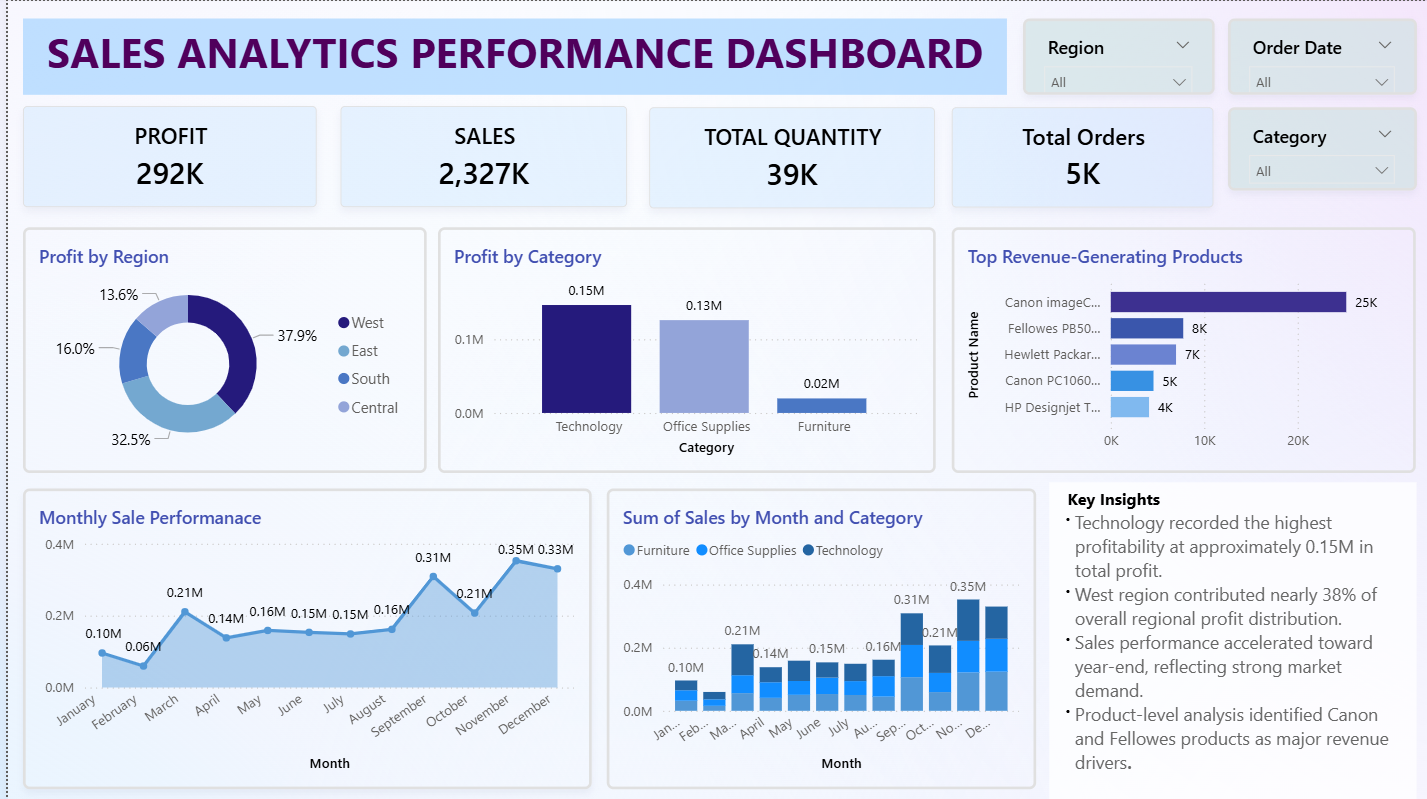

Layout of this report page (visuals, bound fields, positions):
{"tool":"powerbi","page":{"name":"Dashboard","canvas":[1280,720],"ordinal":0},"visuals":[{"type":"textbox","box":[13.8,16.2,887.5,68.8],"z":0},{"type":"card","title":"PROFIT","fields":{"Values":["Sum(Orders.Profit)"]},"box":[13.8,95,265,91.2],"z":1000},{"type":"card","title":"SALES","fields":{"Values":["Sum(Orders.Sales)"]},"box":[300,95,258.8,91.2],"z":2000},{"type":"card","title":"TOTAL QUANTITY","fields":{"Values":["Sum(Orders.Quantity)"]},"box":[578.8,96.2,257.5,91.2],"z":3000},{"type":"areaChart","title":"Monthly Sale Performanace","fields":{"Category":["Orders.Order Date.Variation.Date Hierarchy.Year","Orders.Order Date.Variation.Date Hierarchy.Month"],"Y":["Sum(Orders.Sales)"]},"box":[13.8,440,512.5,271.2],"z":4000},{"type":"columnChart","title":"Profit by Category","fields":{"Category":["Orders.Category"],"Y":["Sum(Orders.Profit)"]},"box":[387.5,203.8,448.8,221.2],"z":5000},{"type":"donutChart","title":"Profit by Region","fields":{"Category":["Orders.Region"],"Y":["Sum(Orders.Profit)"]},"box":[13.8,203.8,363.8,221.2],"z":6000},{"type":"barChart","title":"Top Revenue-Generating Products","fields":{"Category":["Orders.Product Name"],"Y":["Sum(Orders.Profit)"]},"box":[851.2,203.8,418.8,221.2],"z":7000},{"type":"slicer","fields":{"Values":["Orders.Order Date"]},"box":[1100,16.2,170,68.8],"z":8000},{"type":"slicer","fields":{"Values":["Orders.Region"]},"box":[915,16.2,172.5,68.8],"z":9000},{"type":"card","title":"Total Orders","fields":{"Values":["Count(Orders.Order ID)"]},"box":[851.2,96.2,236.2,90],"z":10000},{"type":"slicer","fields":{"Values":["Orders.Category"]},"box":[1100,96.2,170,75],"z":11000},{"type":"columnChart","fields":{"Category":["Orders.Order Date.Variation.Date Hierarchy.Month"],"Y":["Sum(Orders.Sales)"],"Series":["Orders.Category"]},"box":[540,440,387.5,271.2],"z":12000},{"type":"textbox","box":[938.8,433.8,331.2,286.2],"z":13000}]}

Visuals, with their boxes in screenshot pixels (x1, y1, x2, y2), scaled from the page's 1280x720 canvas onto the 1427x799 screenshot:
textbox: (left=15, top=18, right=1005, bottom=94)
"PROFIT" card: (left=15, top=105, right=311, bottom=207)
"SALES" card: (left=334, top=105, right=623, bottom=207)
"TOTAL QUANTITY" card: (left=645, top=107, right=932, bottom=208)
"Monthly Sale Performanace" areaChart: (left=15, top=488, right=587, bottom=789)
"Profit by Category" columnChart: (left=432, top=226, right=932, bottom=472)
"Profit by Region" donutChart: (left=15, top=226, right=421, bottom=472)
"Top Revenue-Generating Products" barChart: (left=949, top=226, right=1416, bottom=472)
slicer - Orders.Order Date: (left=1226, top=18, right=1416, bottom=94)
slicer - Orders.Region: (left=1020, top=18, right=1212, bottom=94)
"Total Orders" card: (left=949, top=107, right=1212, bottom=207)
slicer - Orders.Category: (left=1226, top=107, right=1416, bottom=190)
columnChart - Orders.Order Date.Variation.Date Hierarchy.Month x Sum(Orders.Sales): (left=602, top=488, right=1034, bottom=789)
textbox: (left=1047, top=481, right=1416, bottom=798)
